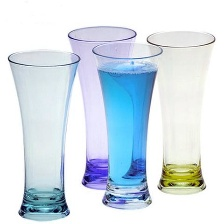glass: (3, 45, 83, 224), (63, 16, 141, 197), (143, 22, 219, 199), (88, 38, 160, 213)
